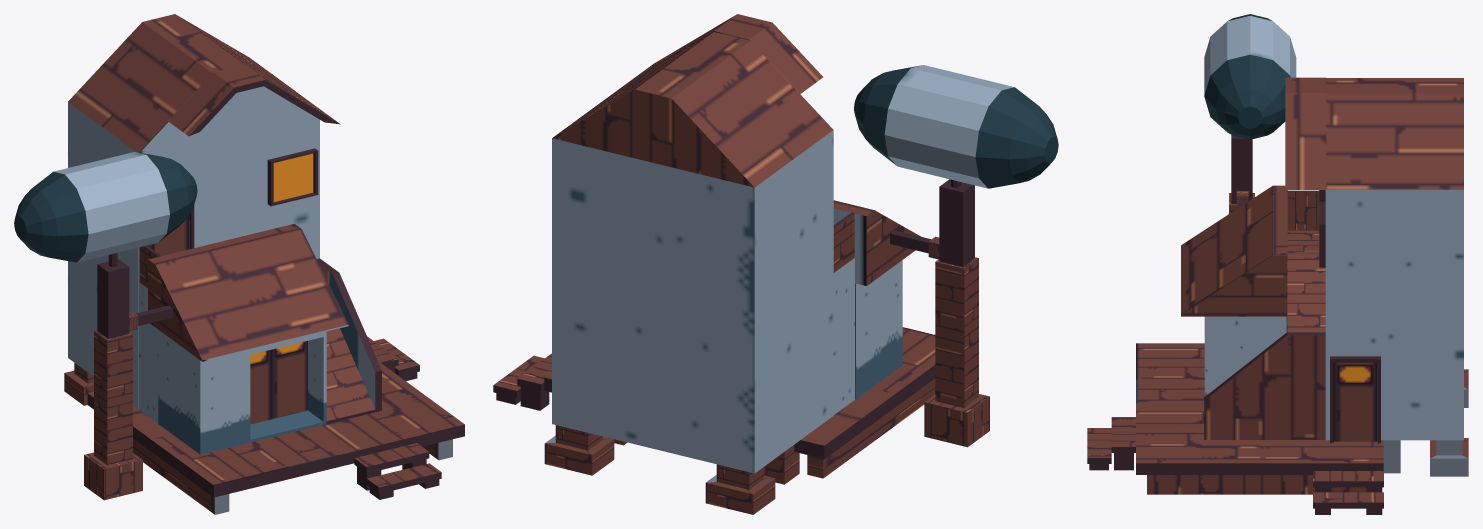
The model's file is Farmacia.v1.Anibal.2508.fbx.
3 renders of one model, left to right at view 1: azimuth 30°, elevation 25°; view 2: azimuth 150°, elevation 25°; view 3: azimuth 270°, elevation 25°, orthographic. The views are drawn at different scales.
Parts seen in each view (by area): view 1: Farmacia; view 2: Farmacia; view 3: Farmacia.
Boxes of the visible parts, x1,y1,x2,y2 form: Farmacia: [14, 14, 464, 514]; Farmacia: [493, 14, 1058, 514]; Farmacia: [1087, 14, 1468, 514].
Size of the model in its own units: 1060 by 829 by 830.
